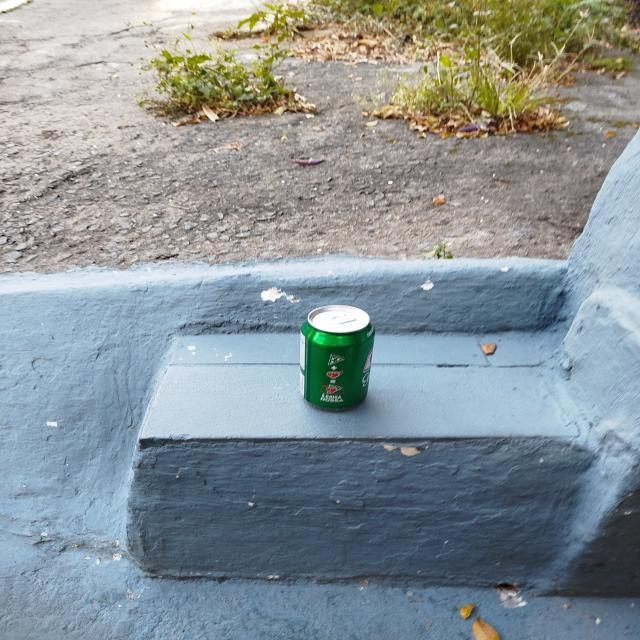Guarana: (300, 304, 377, 408)
